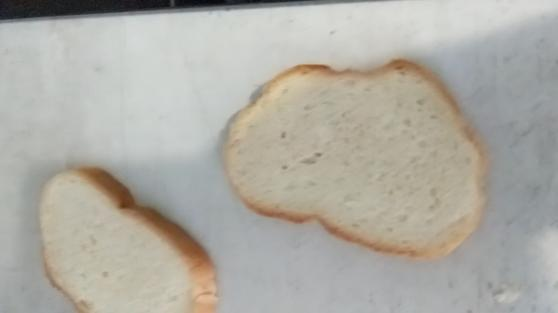white_bread: (225, 58, 488, 252), (31, 166, 220, 313)
